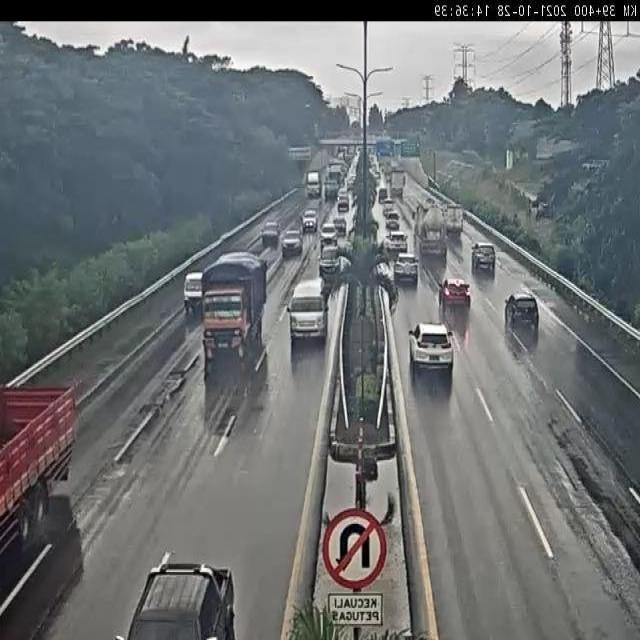Car: (408, 322, 454, 387), (288, 278, 329, 344), (505, 286, 542, 331), (432, 277, 473, 306), (182, 271, 205, 316), (393, 253, 419, 286), (471, 242, 495, 272), (384, 231, 408, 257), (281, 229, 302, 257), (262, 221, 280, 248), (320, 241, 339, 264), (320, 222, 338, 243), (302, 210, 318, 232), (348, 212, 359, 240), (385, 210, 400, 230), (332, 216, 347, 235), (338, 190, 350, 212), (378, 187, 388, 203), (346, 174, 356, 190), (382, 198, 392, 211)
Truck: (0, 381, 78, 612), (200, 252, 268, 380), (414, 204, 448, 261), (390, 168, 406, 198), (306, 170, 321, 199), (328, 163, 343, 186)
